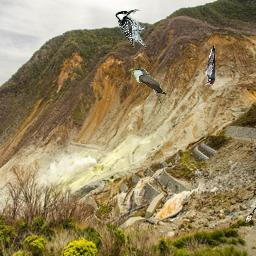Cuckoo: (127, 68, 167, 103), (244, 207, 256, 224)
Woodpecker: (115, 9, 146, 49), (205, 45, 215, 85)
